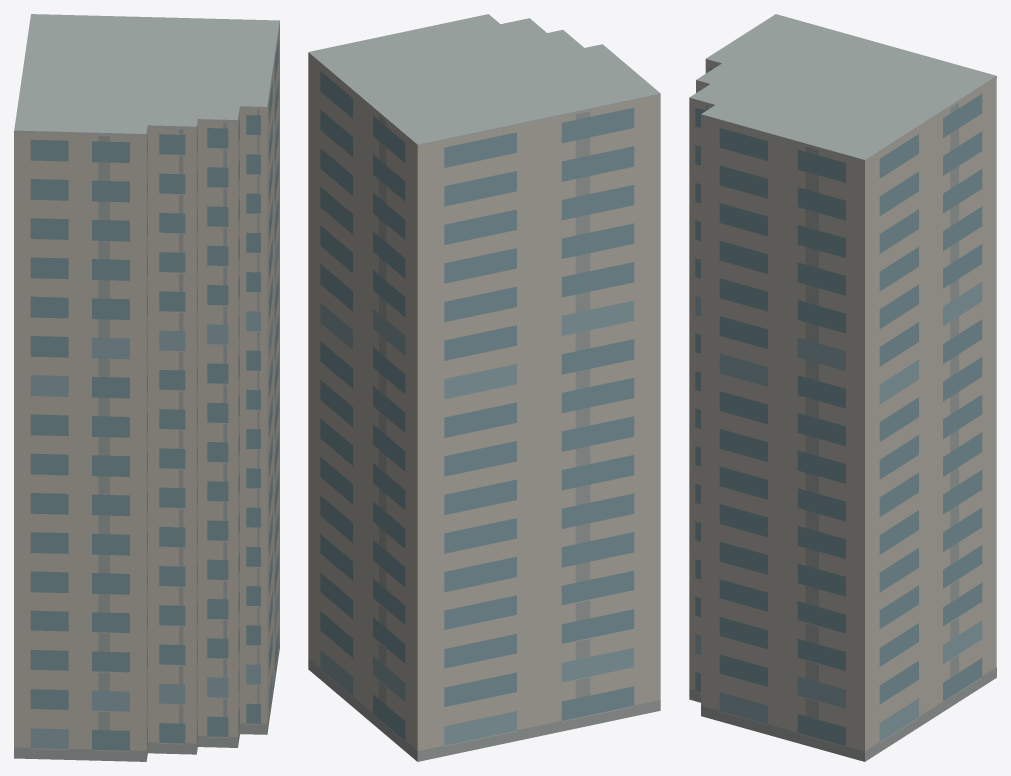
The model's file is residential-61d3756d-fb92-4041-b44d-f30dd79a727d.glb.
3 views of the same model, side by side, from view 1: azimuth 30°, elevation 25°; view 2: azimuth 150°, elevation 25°; view 3: azimuth 270°, elevation 25° (orthographic). The views are drawn at different scales.
Visible parts, largest first — view 1: residential-61d3756d-fb92-4041-b44d-f30dd79a727d.tmp; view 2: residential-61d3756d-fb92-4041-b44d-f30dd79a727d.tmp; view 3: residential-61d3756d-fb92-4041-b44d-f30dd79a727d.tmp.
Boxes of the visible parts, x1=… form: residential-61d3756d-fb92-4041-b44d-f30dd79a727d.tmp: x1=14, y1=14, x2=279, y2=761; residential-61d3756d-fb92-4041-b44d-f30dd79a727d.tmp: x1=308, y1=14, x2=660, y2=761; residential-61d3756d-fb92-4041-b44d-f30dd79a727d.tmp: x1=689, y1=14, x2=996, y2=761.
Bounding box in the file's own units: 26.02 × 50 × 23.16.
